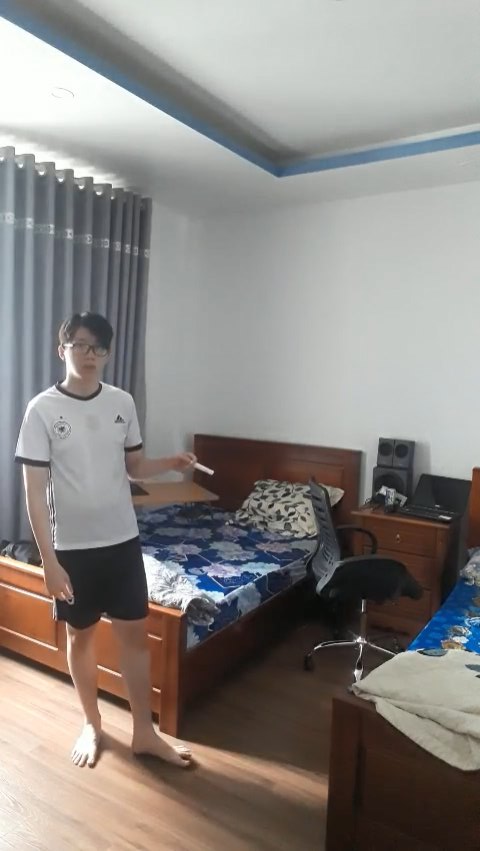cigarette: (194, 462, 217, 476)
person: (5, 304, 212, 784)
